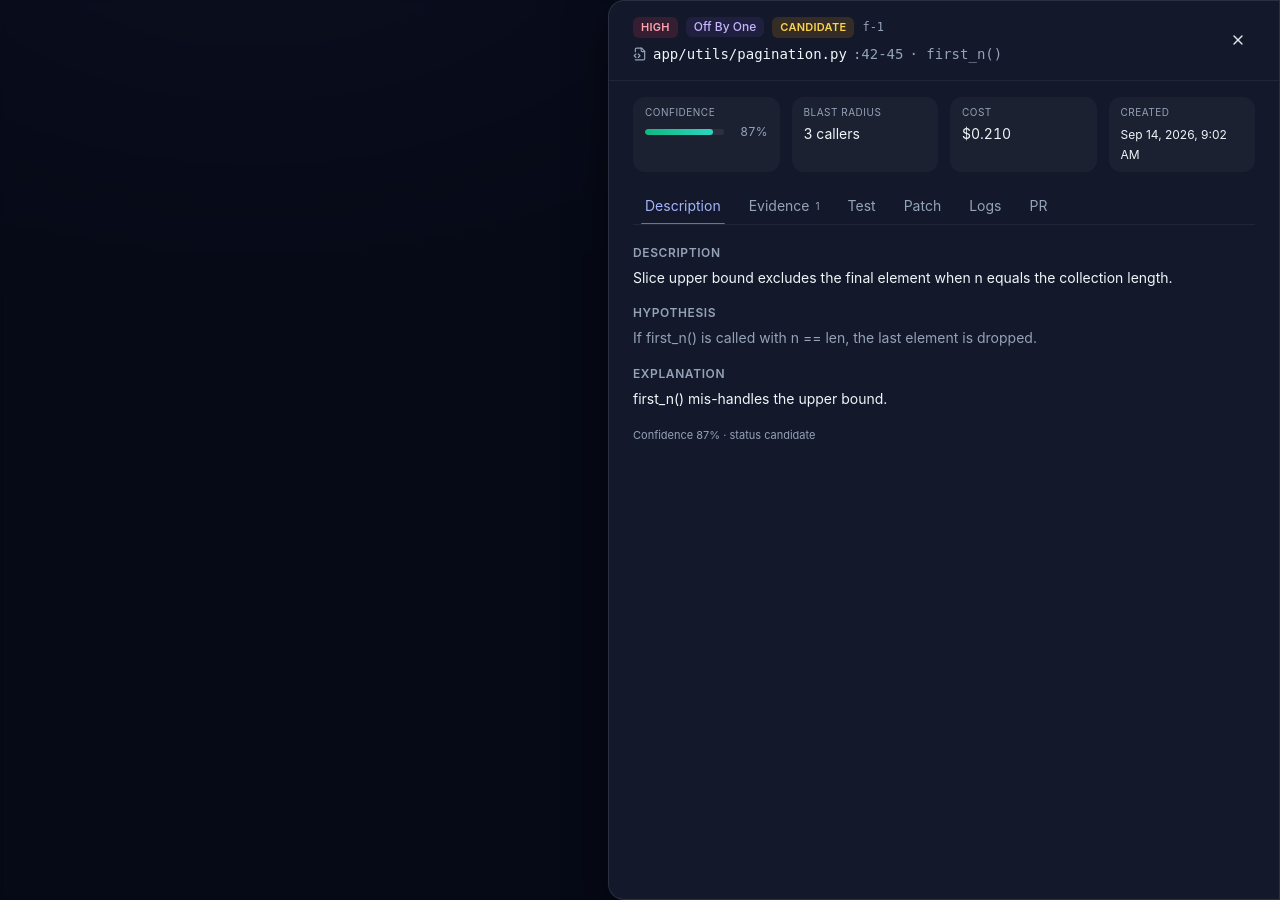
it: FindingDrawer › shows empty states when test or patch are missing
Click the tab "Test": [862, 206] box [836,188,888,224]
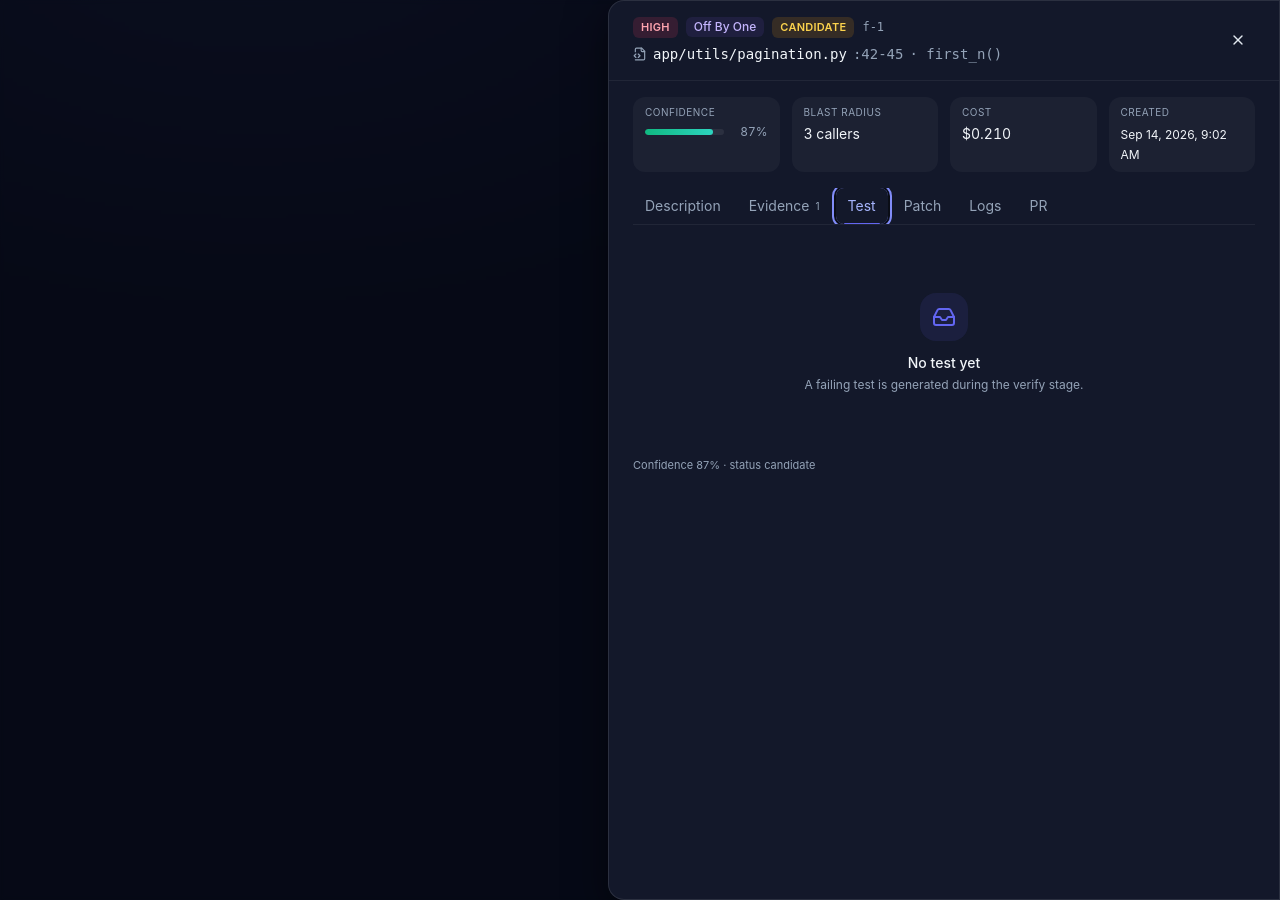
Now the text "No test yet" is shown, box [908,352,980,372]
Click the tab "Patch": [922, 206] box [892,188,953,224]
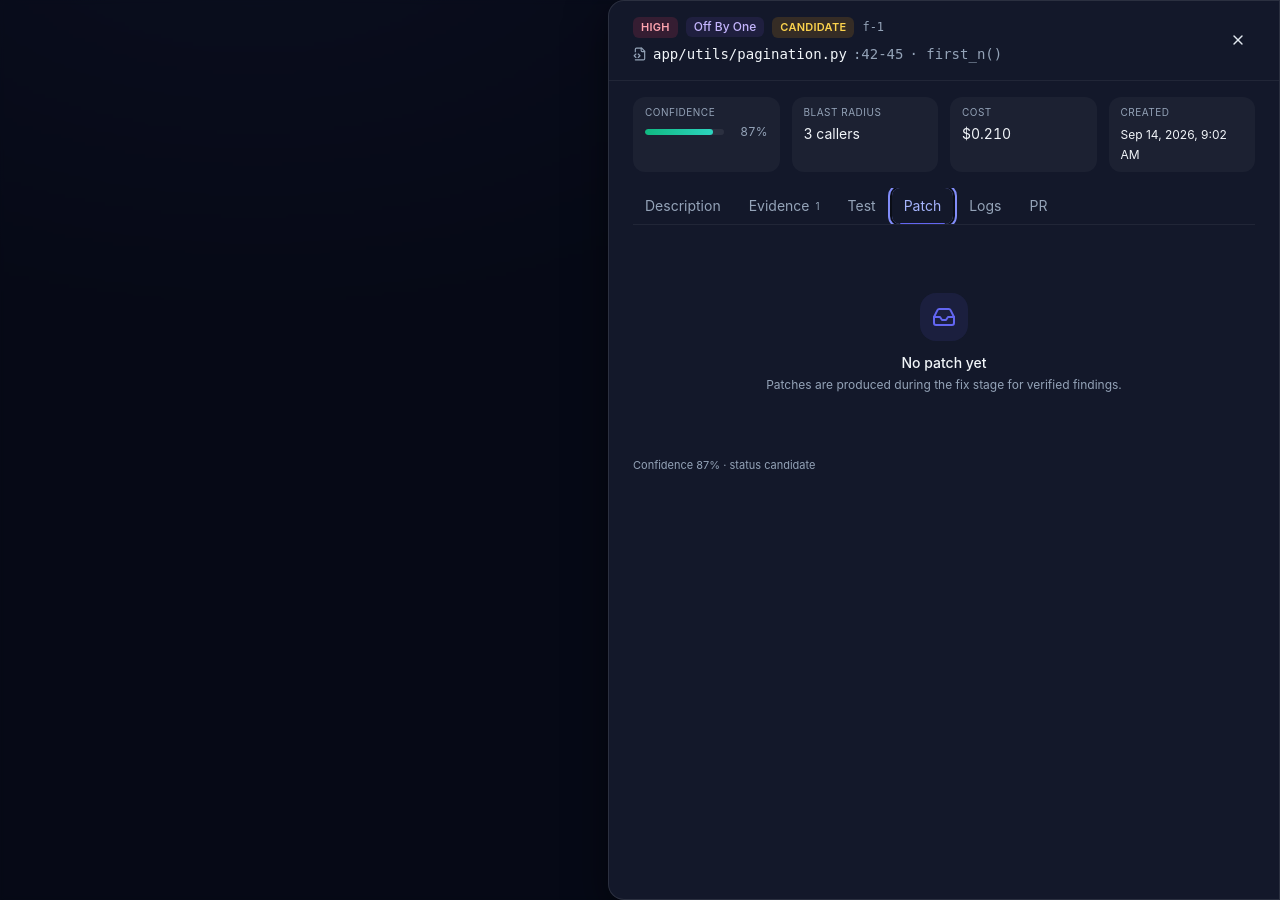
Now the text "No patch yet" is shown, box [901,352,987,372]
